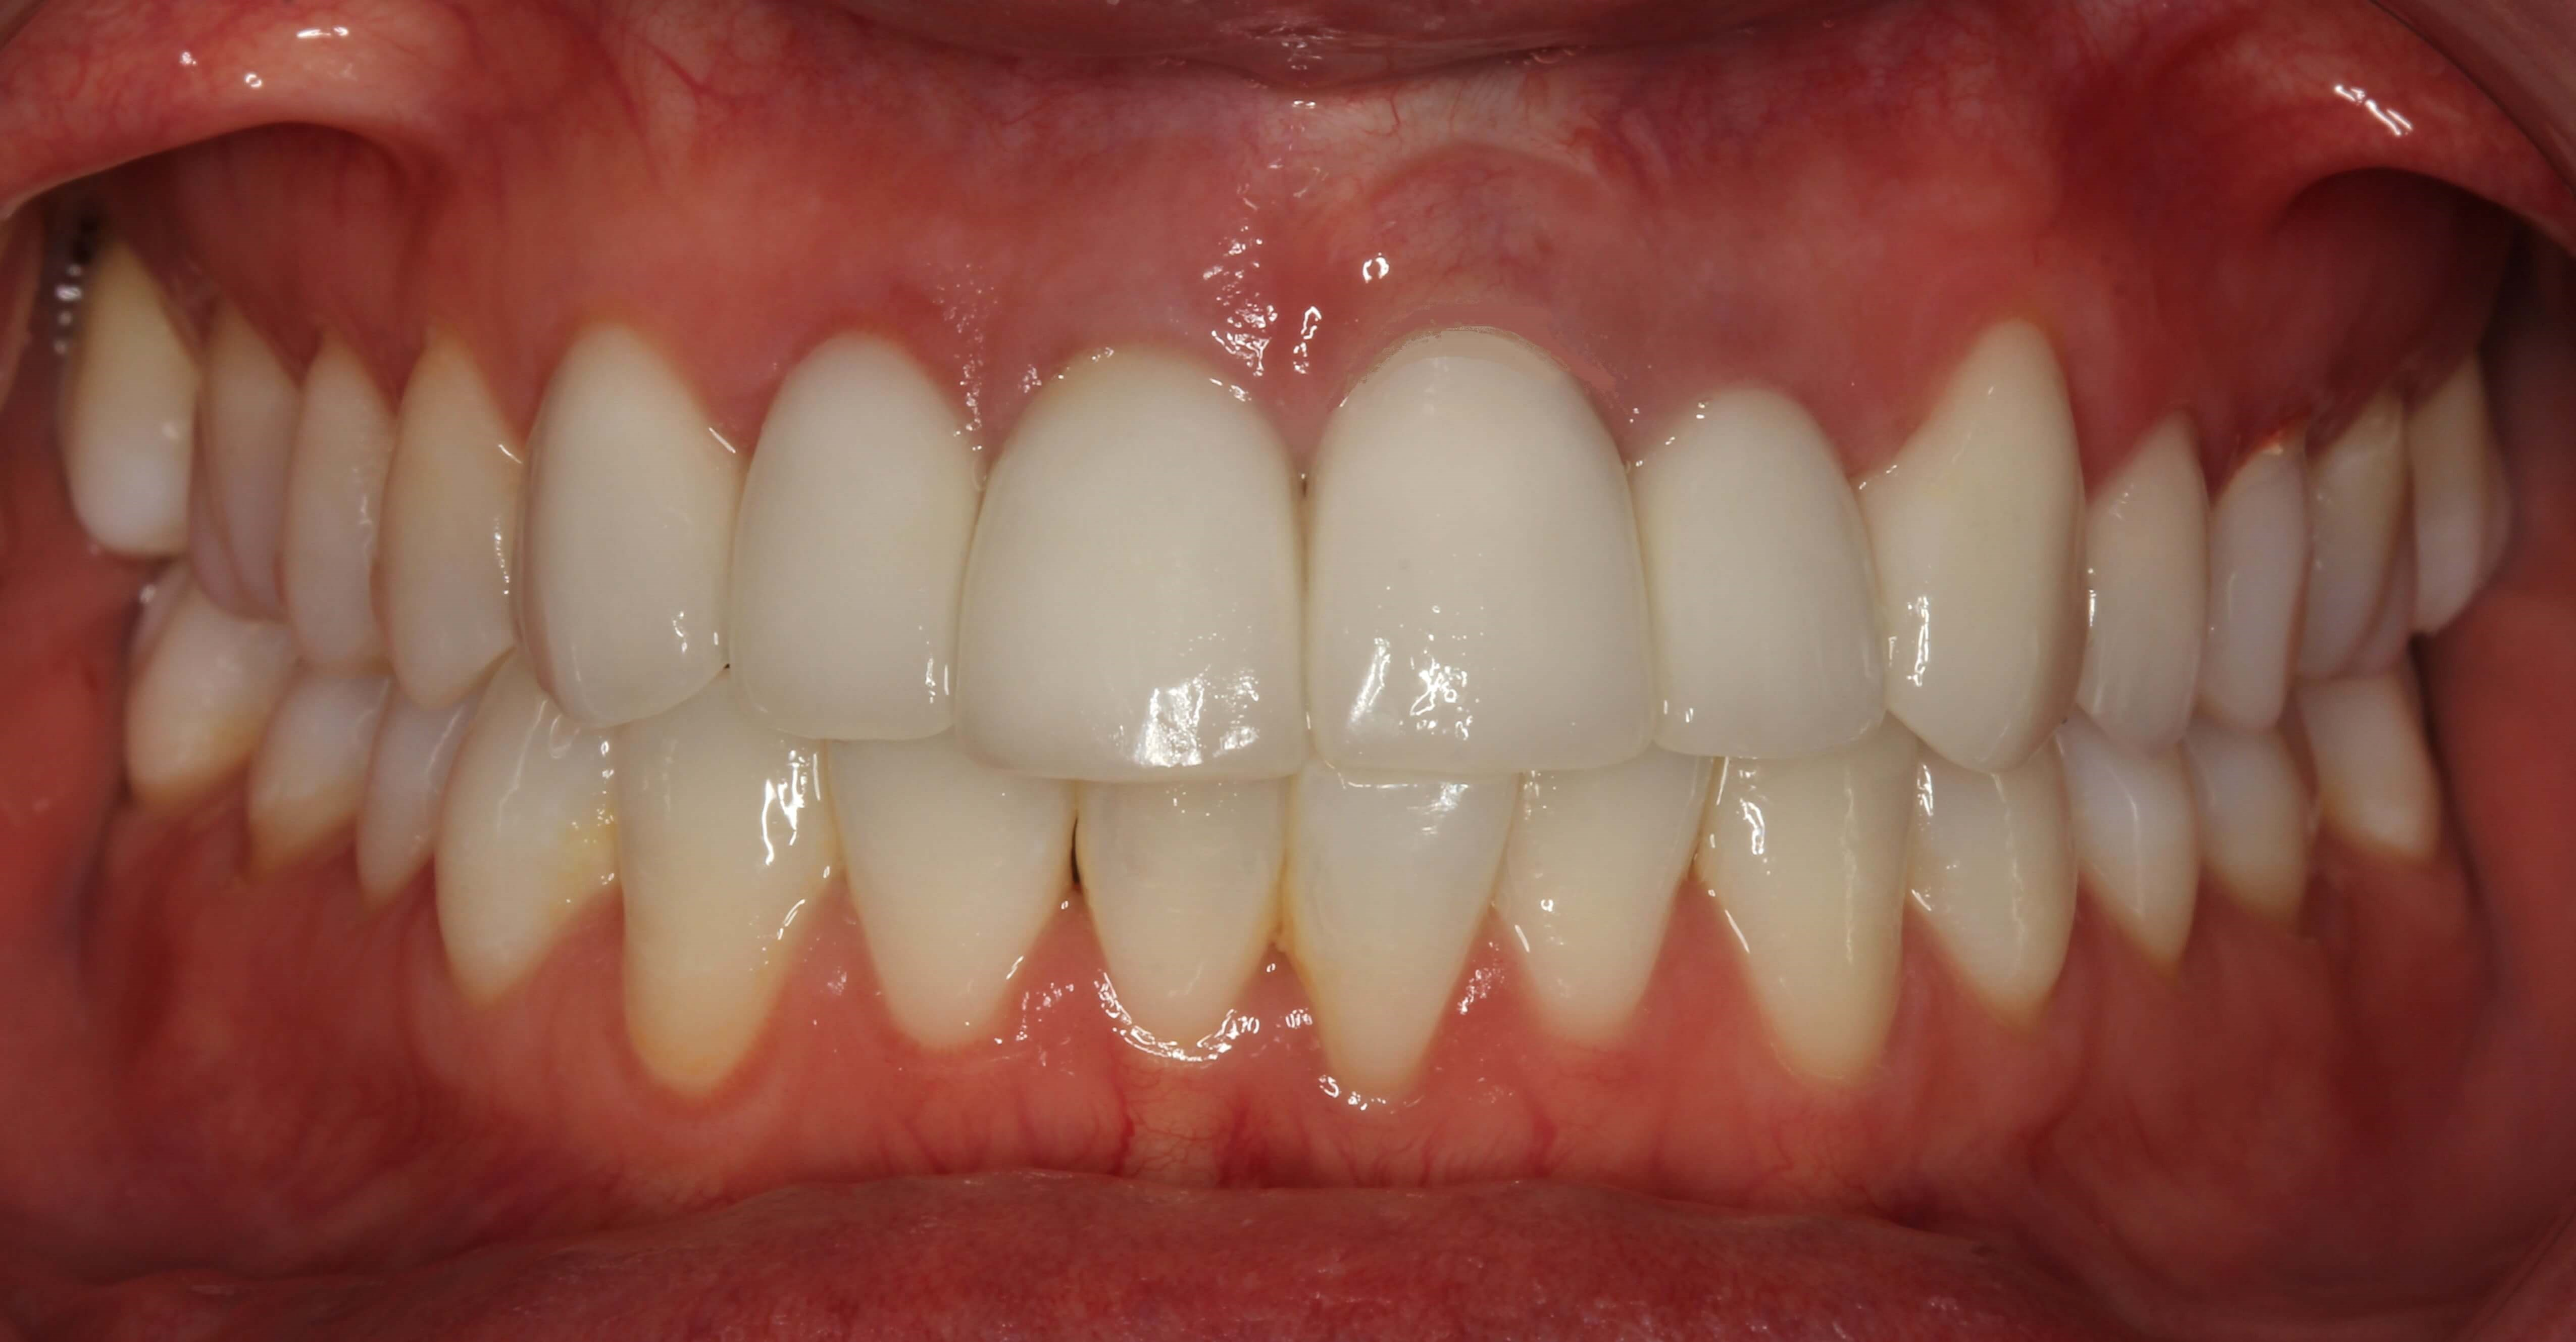LL1BC_healthy: (1906, 765, 2079, 1006)
LL1M_healthy: (2201, 741, 2310, 932)
LL2BC_healthy: (2070, 746, 2199, 966)
LL2M_healthy: (2309, 697, 2445, 860)
LLCI_healthy: (1293, 780, 1513, 1097)
LLC_healthy: (1712, 761, 1903, 1075)
LLLI_healthy: (1508, 775, 1704, 1049)
LR1BC_healthy: (441, 714, 617, 996)
LR1M_healthy: (250, 673, 363, 875)
LR2BC_healthy: (361, 717, 434, 903)
LR2M_healthy: (126, 610, 261, 807)
LRCI_healthy: (1075, 780, 1288, 1042)
LRC_healthy: (622, 736, 828, 1100)
LRLI_healthy: (826, 741, 1070, 1044)
UL1BC_healthy: (2084, 414, 2205, 744)
UL1M_healthy: (2303, 388, 2409, 681)
UL2BC_healthy: (2215, 433, 2303, 729)
UL2M_healthy: (2416, 358, 2510, 630)
ULCI_healthy: (1308, 327, 1649, 780)
ULC_healthy: (1891, 317, 2080, 766)
ULLI_healthy: (1649, 388, 1886, 760)
UR1BC_healthy: (387, 351, 515, 698)
UR1M_healthy: (189, 317, 285, 615)
UR2BC_healthy: (288, 347, 383, 668)
UR2M_healthy: (56, 259, 189, 552)
URCI_healthy: (963, 353, 1305, 771)
URC_healthy: (523, 325, 733, 725)
URLI_healthy: (729, 341, 964, 741)
